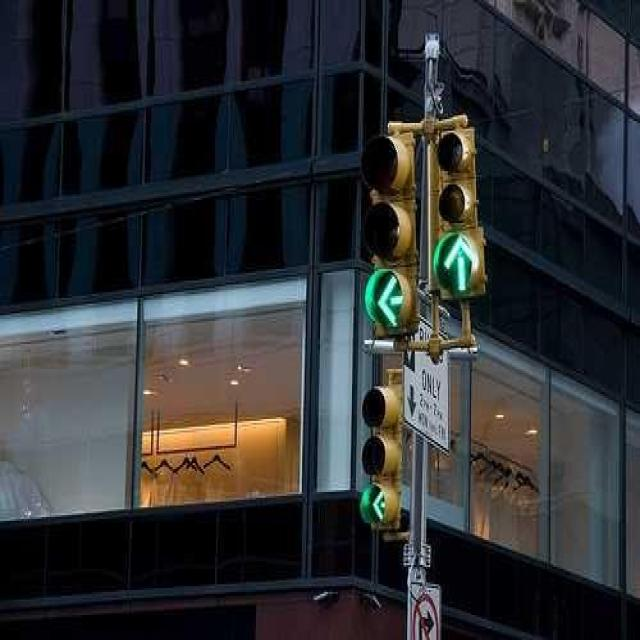Traffic Light -Green-: (353, 131, 420, 342), (434, 128, 486, 299), (358, 376, 404, 536)
